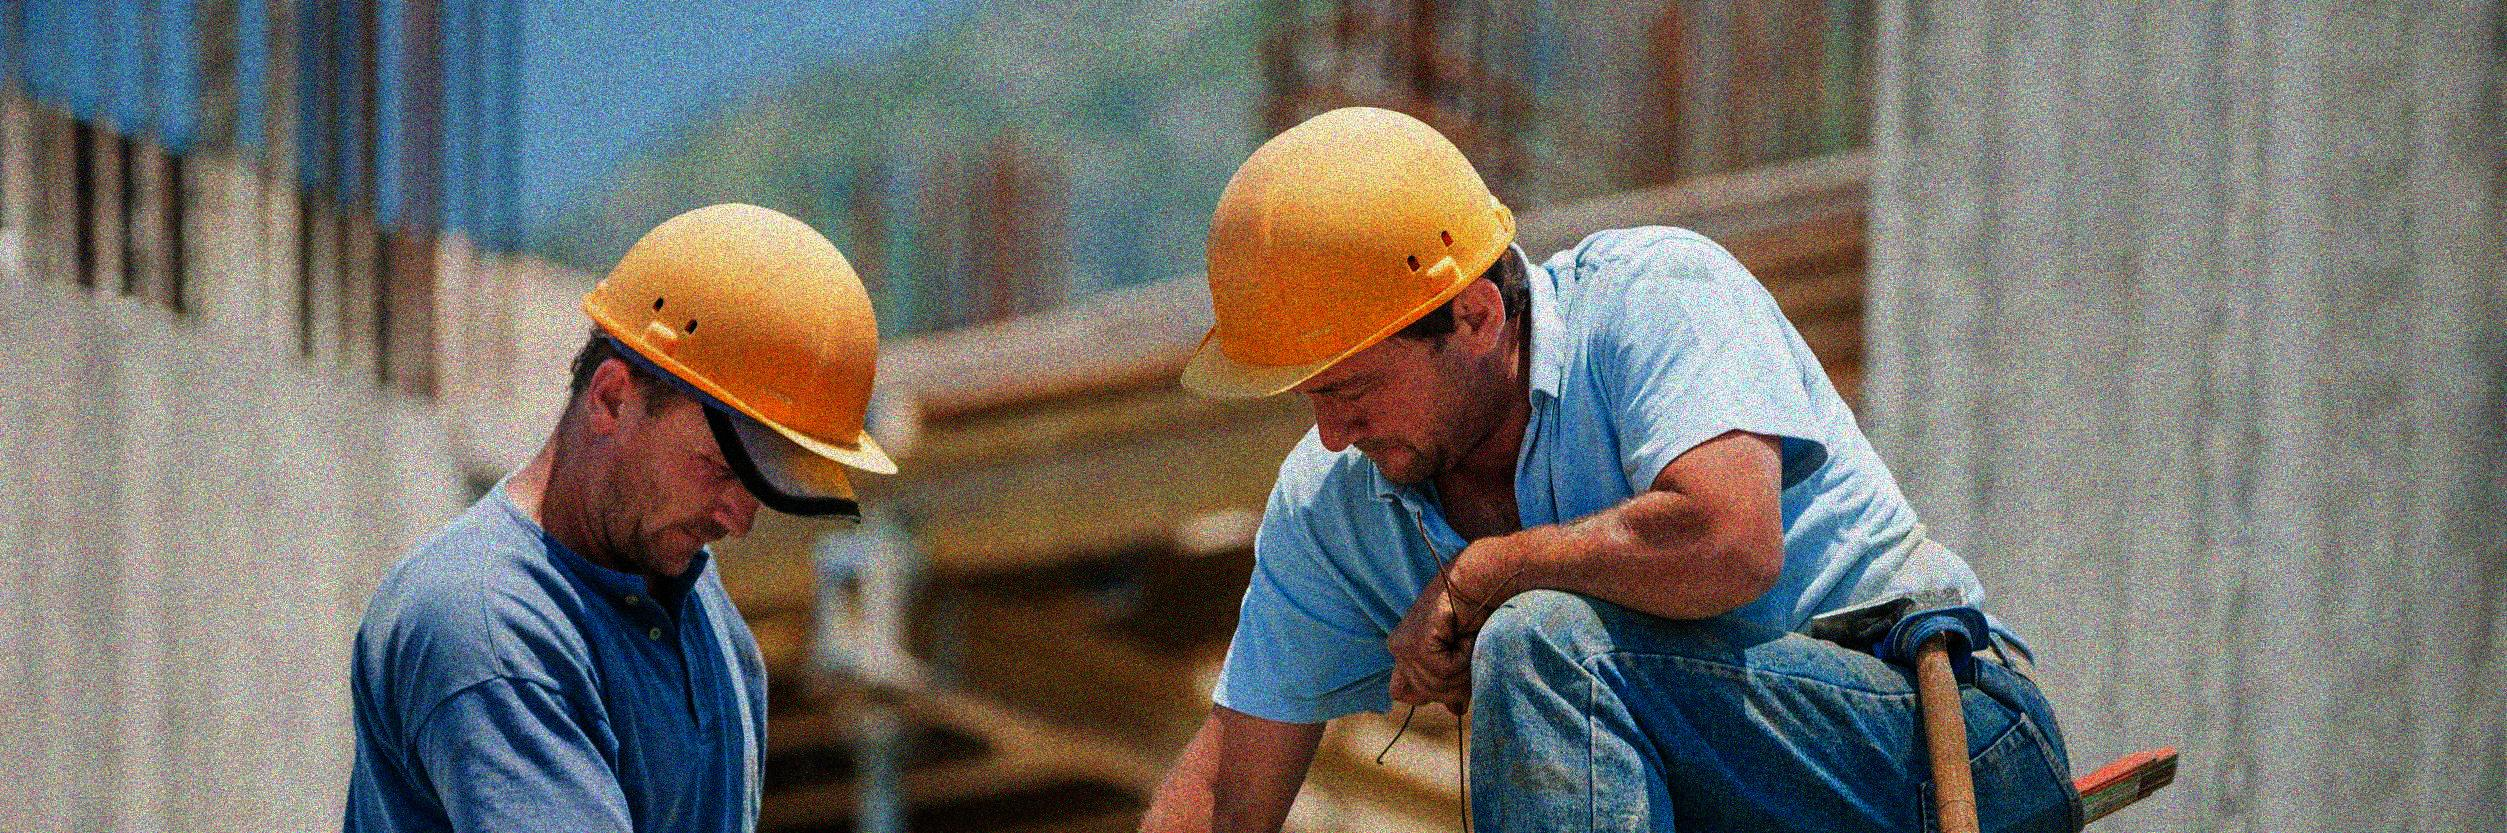helmet: (1177, 98, 1529, 488), (564, 195, 905, 585)
